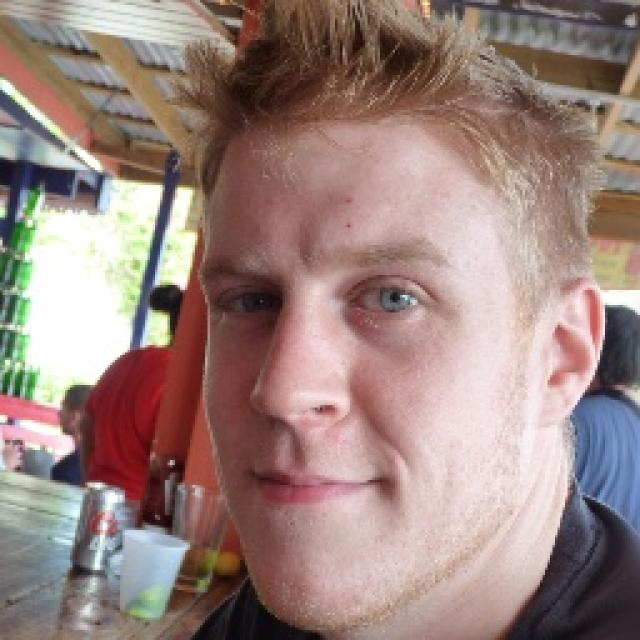earlobe: (536, 276, 608, 431)
